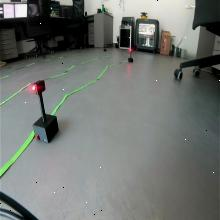red: (31, 80, 45, 96)
